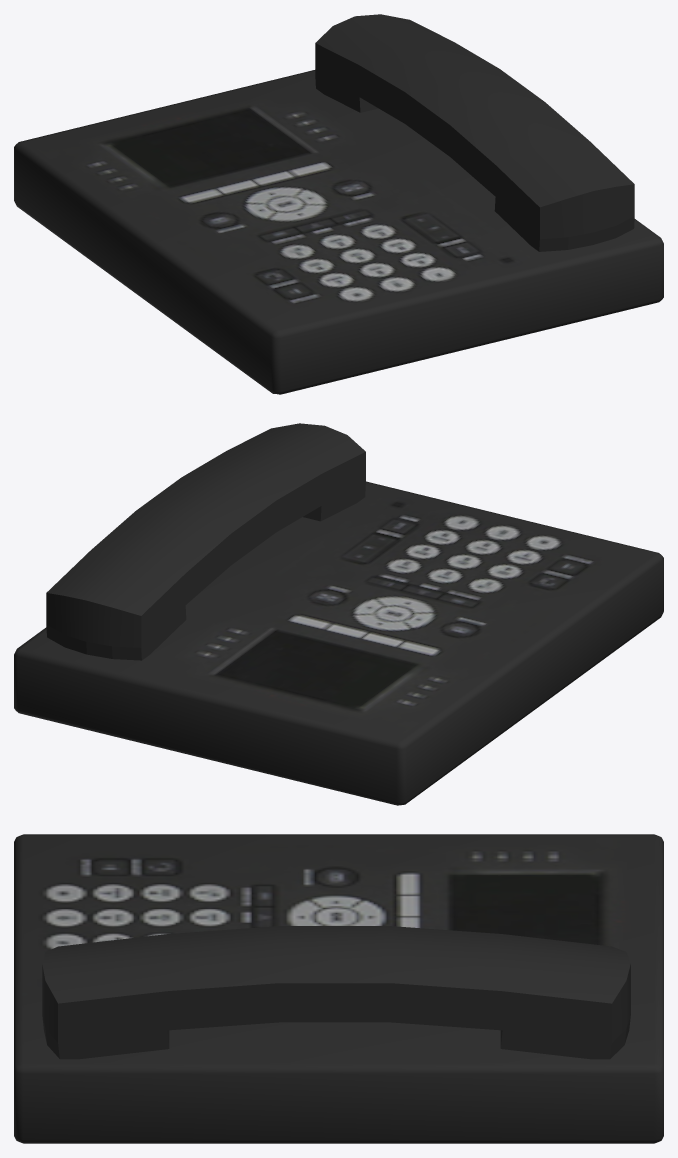
The model's file is telephone.FBX.
3 renders of one model, top to bottom at view 1: azimuth 30°, elevation 25°; view 2: azimuth 150°, elevation 25°; view 3: azimuth 270°, elevation 25°, orthographic. The views are drawn at different scales.
Parts seen in each view (by area): view 1: telephone; view 2: telephone; view 3: telephone.
Boxes of the visible parts, x1=… form: telephone: x1=14, y1=14, x2=663, y2=394; telephone: x1=14, y1=423, x2=663, y2=805; telephone: x1=14, y1=834, x2=663, y2=1143.
Size of the model in its own units: 6.64 by 7.74 by 2.19.
